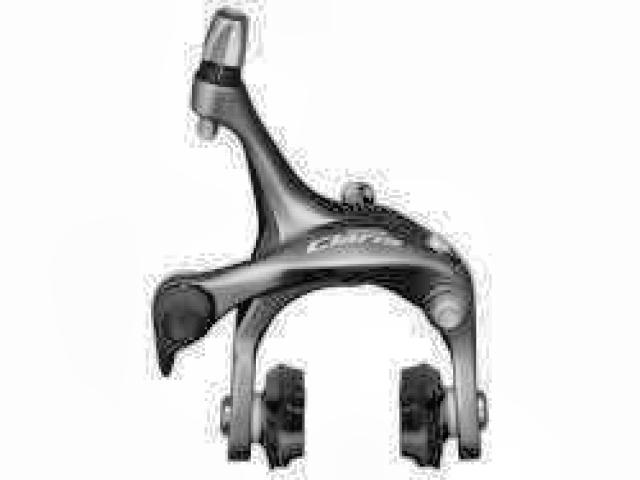rim_brake: (150, 10, 490, 475)
